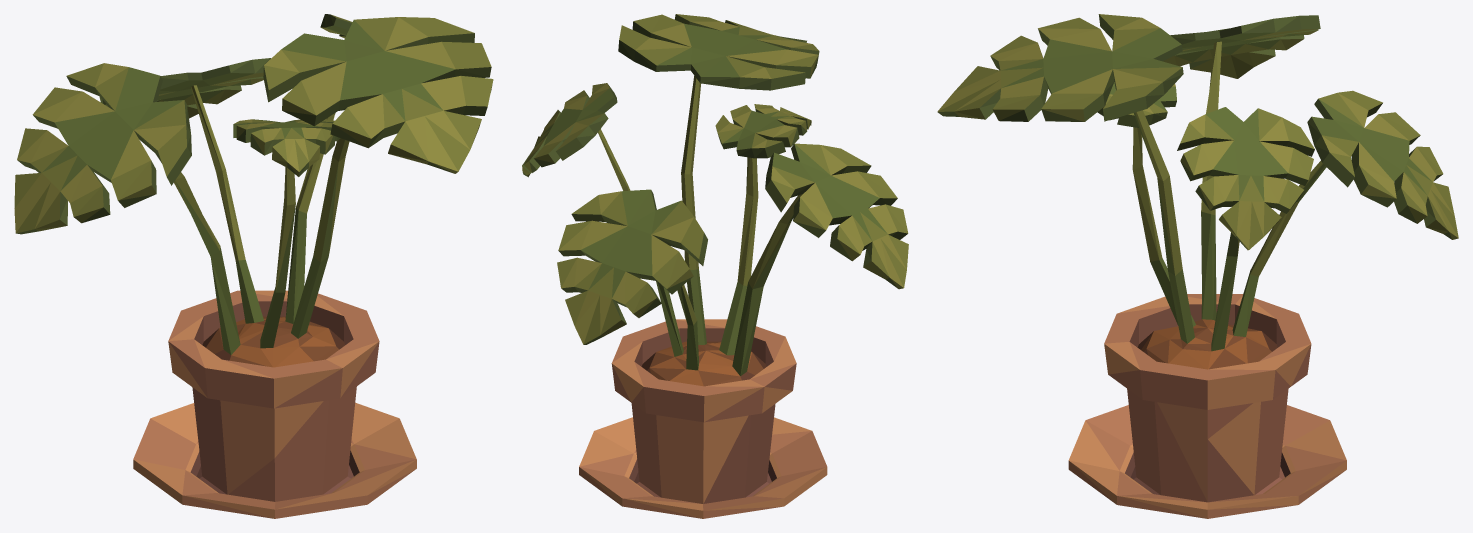
File: plant_downstairs.fbx
The picture shows the model from 3 angles, left to right: view 1: azimuth 30°, elevation 25°; view 2: azimuth 150°, elevation 25°; view 3: azimuth 270°, elevation 25°; orthographic projection. The views are drawn at different scales.
Parts seen in each view (by area): view 1: plant_upstairs; view 2: plant_upstairs; view 3: plant_upstairs.
Boxes of the visible parts, x1,y1,x2,y2 form: plant_upstairs: (14,14,493,518); plant_upstairs: (522,14,908,518); plant_upstairs: (937,14,1458,518).
Size of the model in its own units: 101 by 103 by 109.
